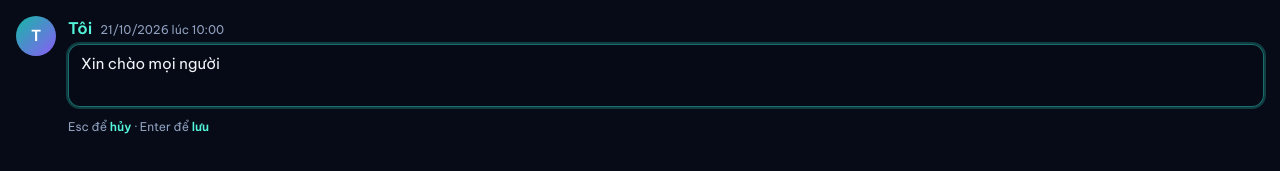
Scenario: tin nhắn: sửa › lỗi từ server hiện ngay dưới ô sửa
The width and height of the screenshot is (1280, 171).
Earlier steps of the test are not shown.
Step 1. Replace the text in the text box named "Nội dung đang sửa" with "mới" → [666, 76], box [68, 44, 1264, 107]
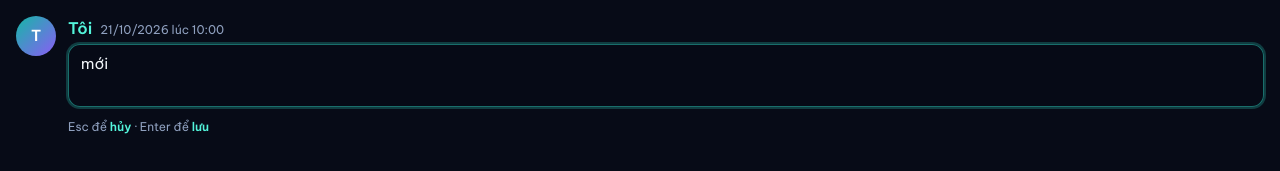
Step 2. Press Enter in the text box named "Nội dung đang sửa", box [68, 44, 1264, 107]
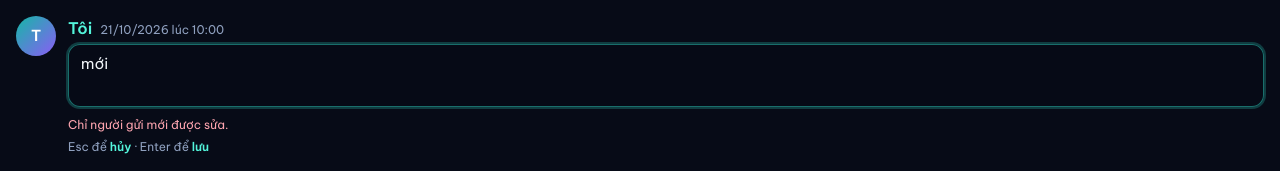
expect the text "Chỉ người gửi mới được sửa." is shown: met, box [68, 117, 228, 132]
